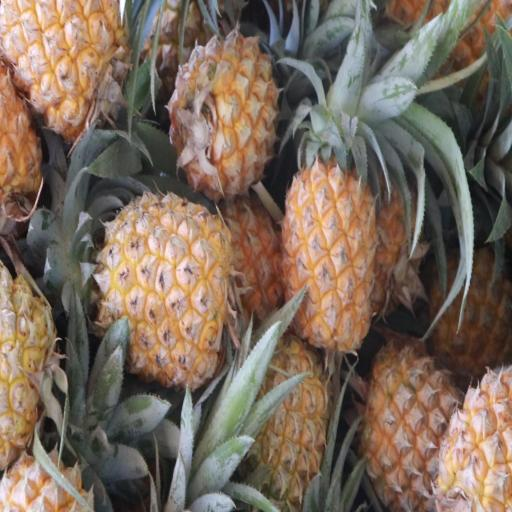------------------------------: (366, 348, 469, 504)
Pineapple - v8 v1: (99, 194, 228, 383), (282, 152, 378, 348), (176, 33, 279, 191), (3, 0, 126, 131), (244, 340, 330, 498), (432, 245, 512, 374)
